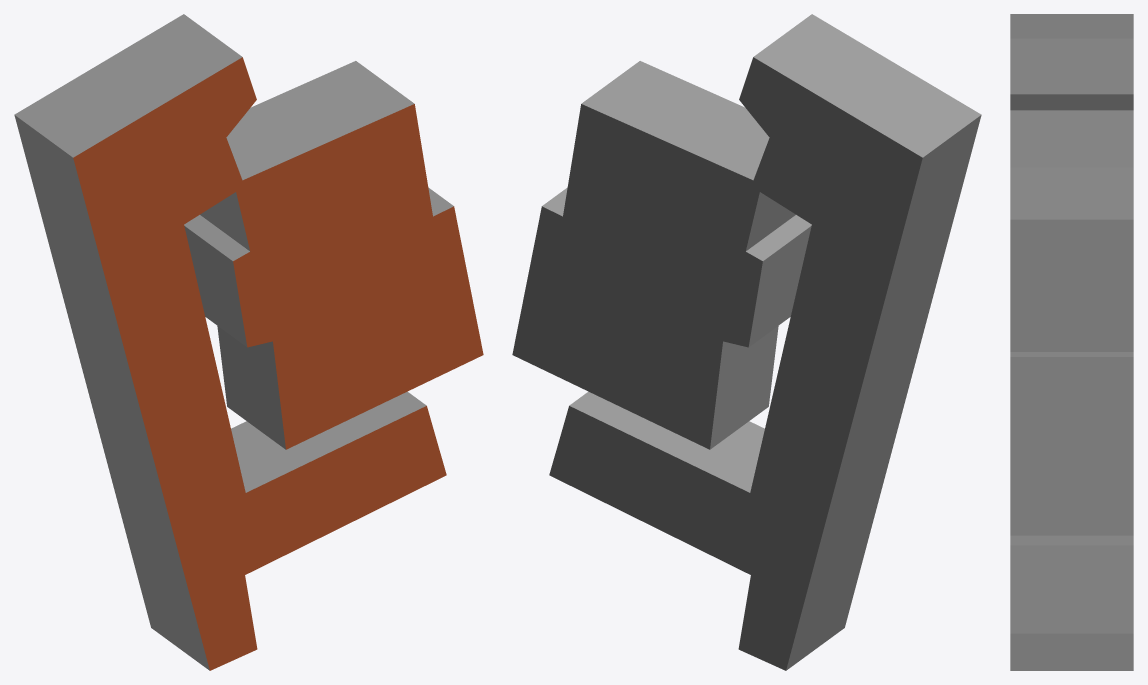
Rendered from construction_4165_assumed_A_Casa_h6m.obj.
3 views of the same model, side by side, from view 1: azimuth 30°, elevation 25°; view 2: azimuth 150°, elevation 25°; view 3: azimuth 270°, elevation 25° (orthographic). The views are drawn at different scales.
Visible parts, largest first — view 1: construction_4165_assumed_A_Casa; view 2: construction_4165_assumed_A_Casa; view 3: construction_4165_assumed_A_Casa.
Part boxes in pixels (left/top/right/bottom): construction_4165_assumed_A_Casa: left=14, top=14, right=483, bottom=670; construction_4165_assumed_A_Casa: left=512, top=14, right=981, bottom=670; construction_4165_assumed_A_Casa: left=1010, top=14, right=1133, bottom=670.
Size of the model in its own units: 24.16 by 34.08 by 6.
